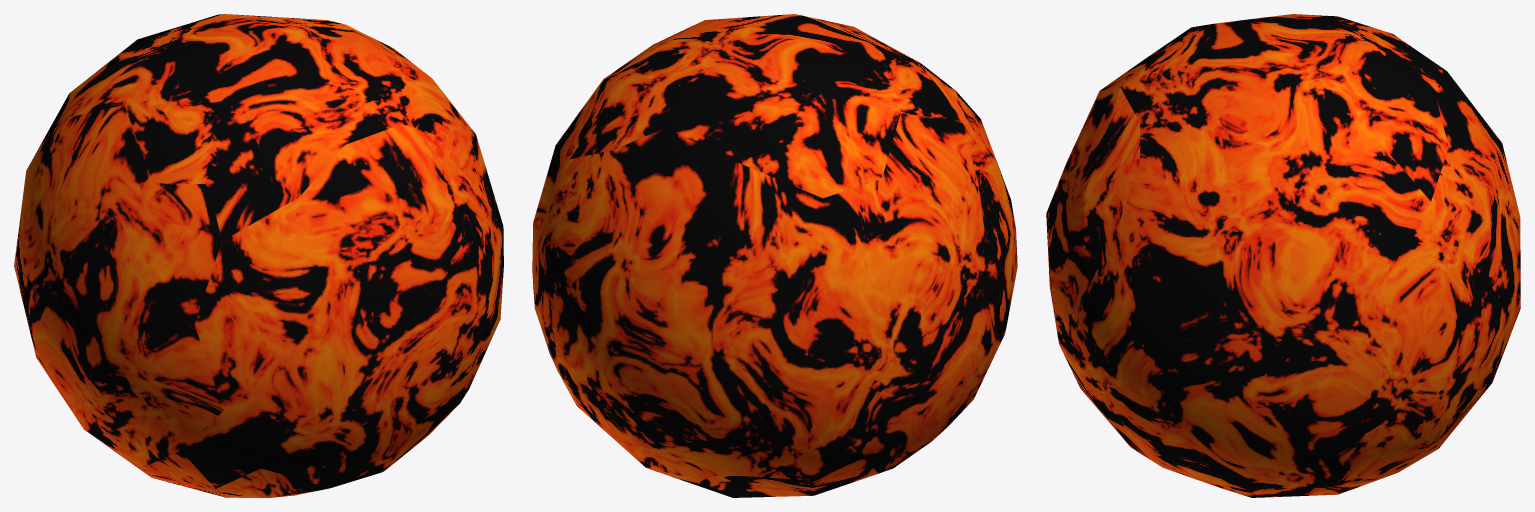
Rendered from fireball.glb.
The picture shows the model from 3 angles, left to right: view 1: azimuth 30°, elevation 25°; view 2: azimuth 150°, elevation 25°; view 3: azimuth 270°, elevation 25°; orthographic projection.
Parts seen in each view (by area): view 1: Cube; view 2: Cube; view 3: Cube.
Boxes of the visible parts, x1,y1,x2,y2 form: Cube: (14,14,503,497); Cube: (532,14,1017,497); Cube: (1046,14,1520,497).
Bounding box in the file's own units: 2.66 × 2.64 × 2.63.
1 material, 1 textured.
